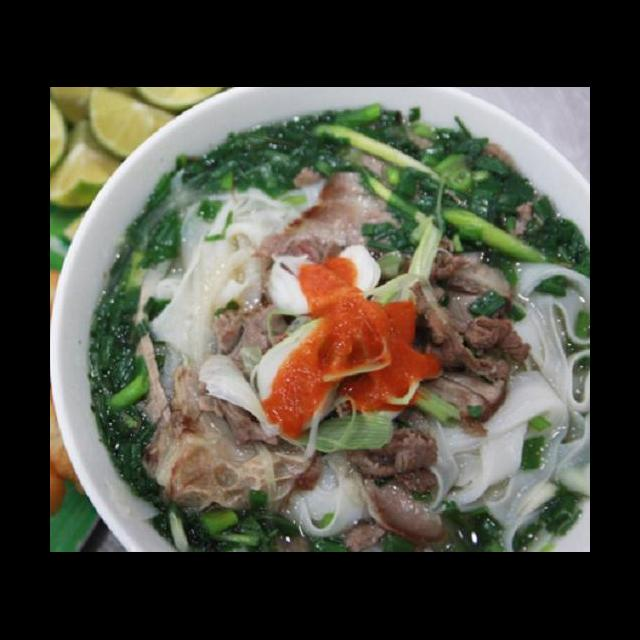banh pho: (141, 180, 304, 408), (405, 360, 590, 552), (507, 255, 590, 422), (284, 443, 380, 542)
pho bo: (70, 120, 590, 552)
thit bo: (207, 144, 420, 383), (126, 328, 309, 520), (417, 245, 524, 426), (335, 414, 447, 538)
